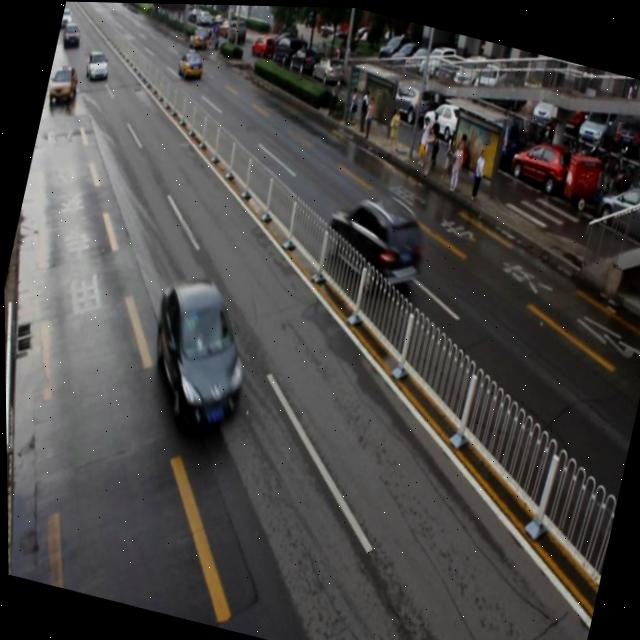car: (132, 266, 263, 440), (315, 183, 432, 295)
